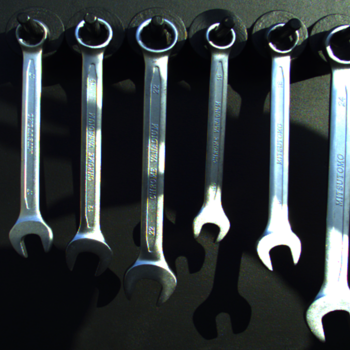bottom: (119, 257, 179, 306), (303, 282, 349, 343), (253, 222, 303, 271), (61, 233, 114, 279), (6, 215, 55, 260), (189, 205, 231, 244)
top: (132, 14, 181, 57), (73, 14, 114, 54), (14, 16, 52, 54), (263, 20, 300, 56), (322, 21, 349, 70), (202, 20, 240, 54)
